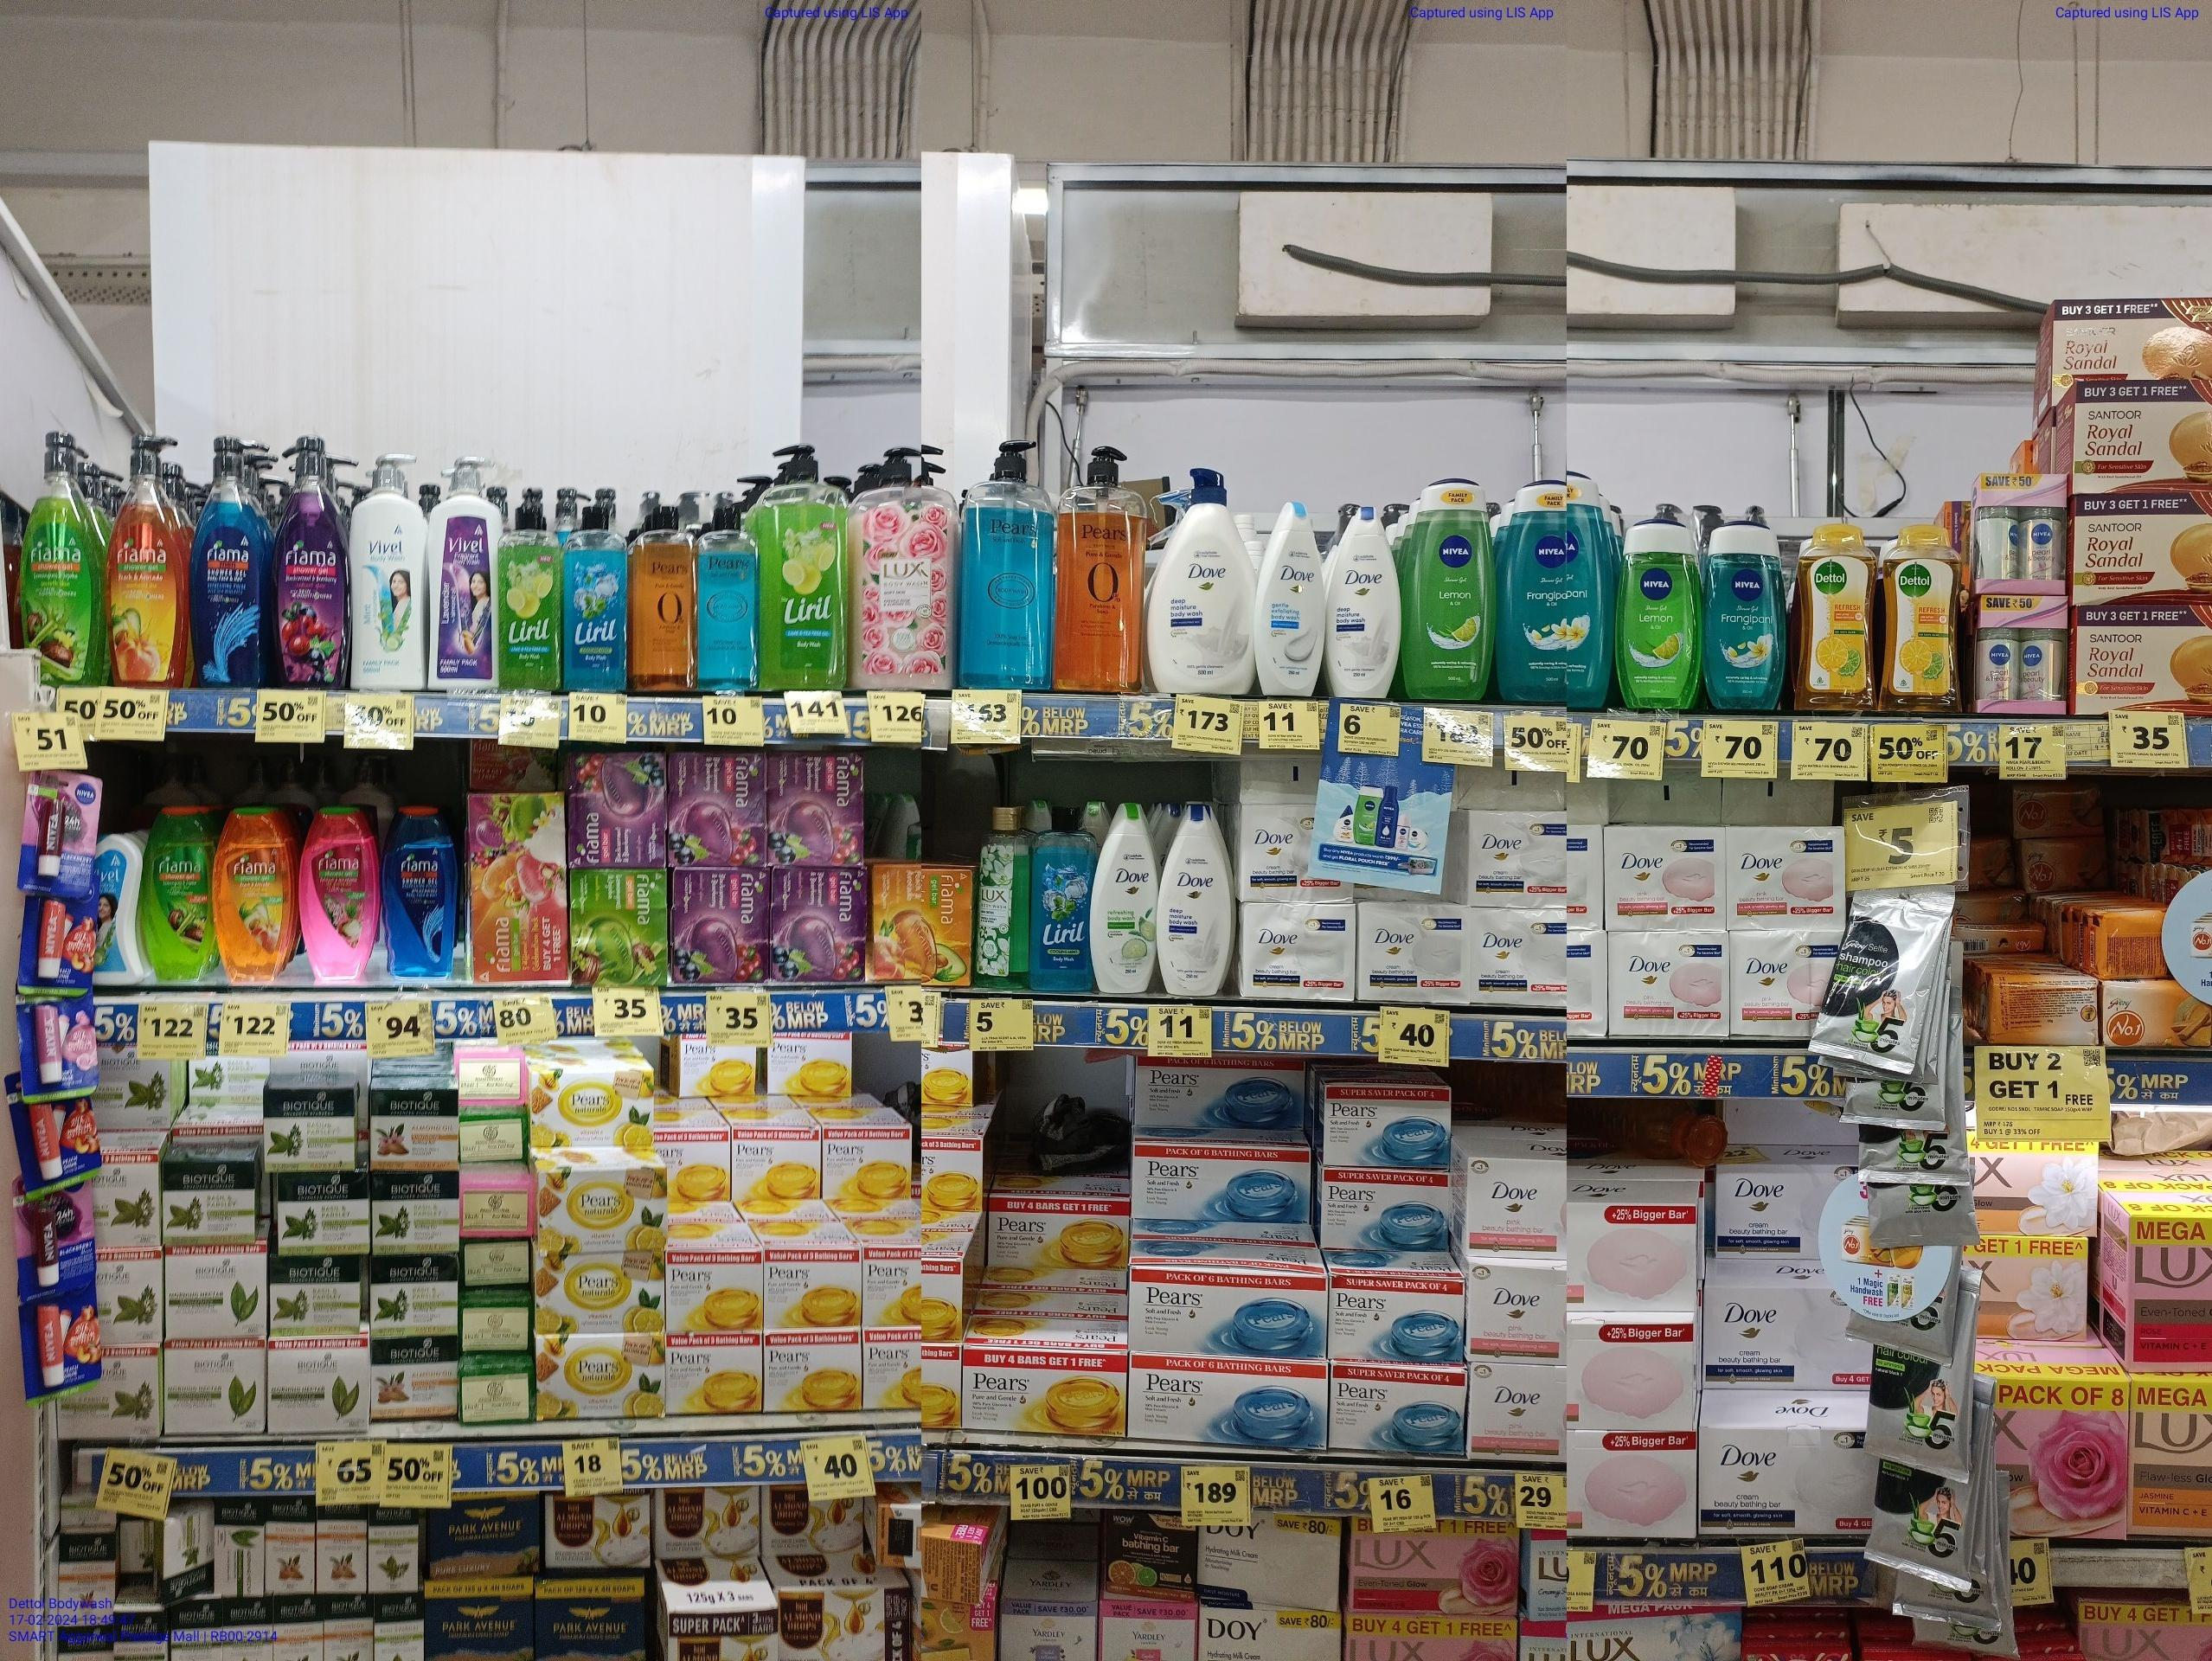Dettol_Bodywash_Refresh: (1795, 518, 1875, 710), (1884, 527, 1964, 714)
Dove_Deep_Moisture_Body_Wash_250ML: (1162, 801, 1232, 998), (1329, 502, 1399, 698)
Dove_Gentle_Exfoliating_Body_Wash_250ML: (1254, 502, 1328, 694)
Dove_Refreshing_Body_Wash_250ML: (1094, 801, 1158, 998)
Fiama_Shower_Gel_Lemongrass_and_Jojoba_250ML: (141, 806, 216, 982)
Fiama_Shower_Gel_Patchouli_and_Macadamia_250ML: (300, 796, 377, 982)
Fiama_Shower_Gel_Peach_and_Avocado_250ML: (220, 806, 295, 988)
Liril_Cooling_Mint_Body_Wash_250ML: (563, 506, 626, 691), (1034, 806, 1090, 995)
Liril_Lime_and_Tea_Tree_Oil_Body_Wash_250ML: (497, 504, 560, 693)
Lux_Body_Wash_Skin_Detox_Freesia_Scent_and_Alove_Vera_245ML: (979, 803, 1029, 977)
Nivea_Shower_Gel_Frangipani_and_Oil_250ML: (1704, 522, 1788, 712), (1502, 483, 1567, 701)
Nivea_Shower_Gel_Lemon_and_Oil_250ML: (1406, 476, 1490, 701), (1614, 518, 1697, 714)
Pears_Pure_Glycerin_and_Mint_Extracts_Body_Wash_250ML: (696, 506, 757, 693)
